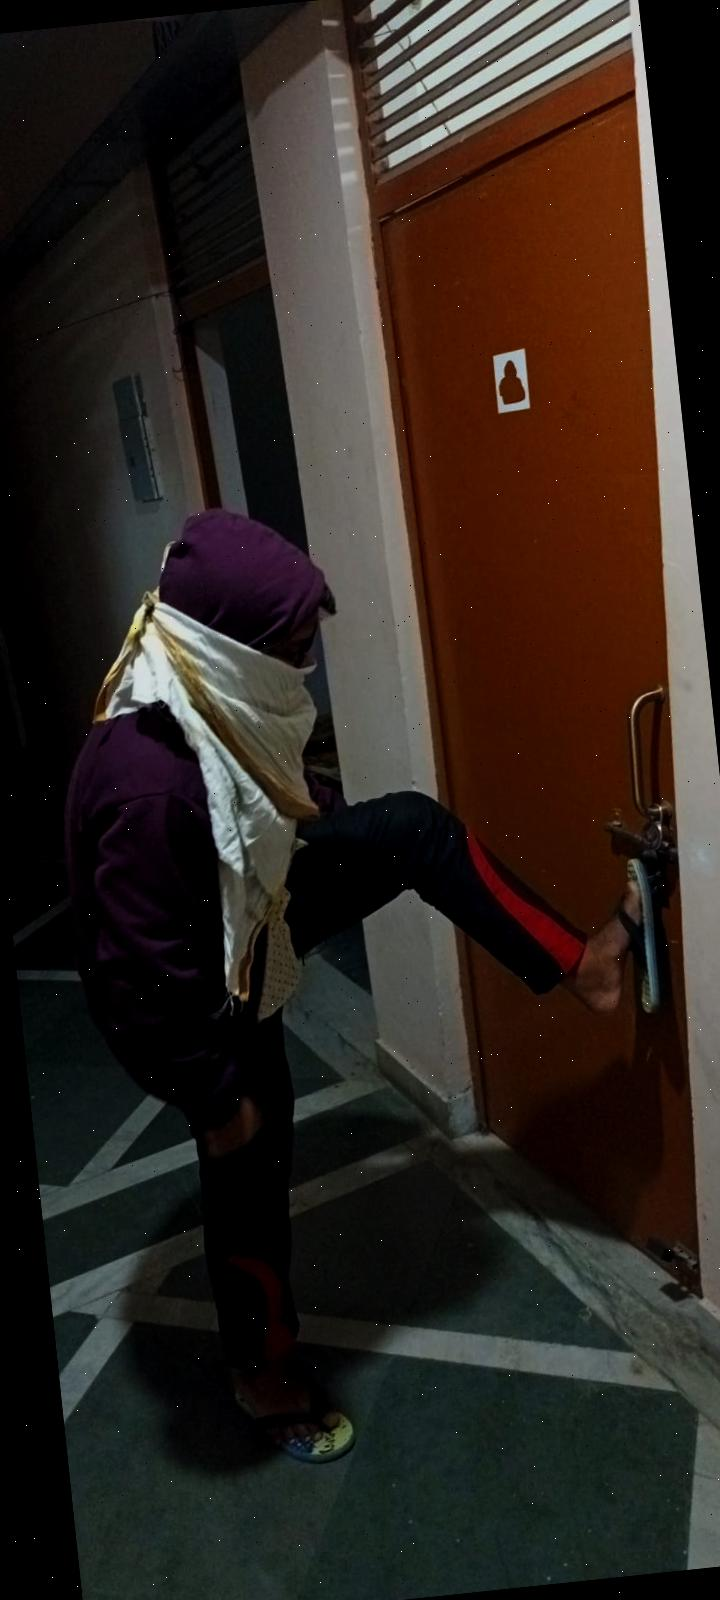suspicion: (0, 444, 720, 1514), (0, 486, 483, 1538)
